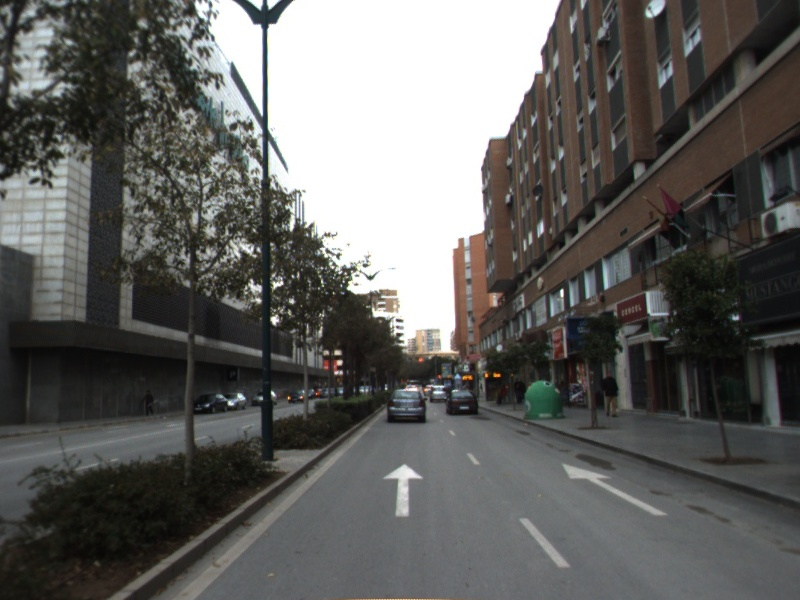STRAIGHT: (560, 461, 669, 518), (380, 462, 426, 519)
